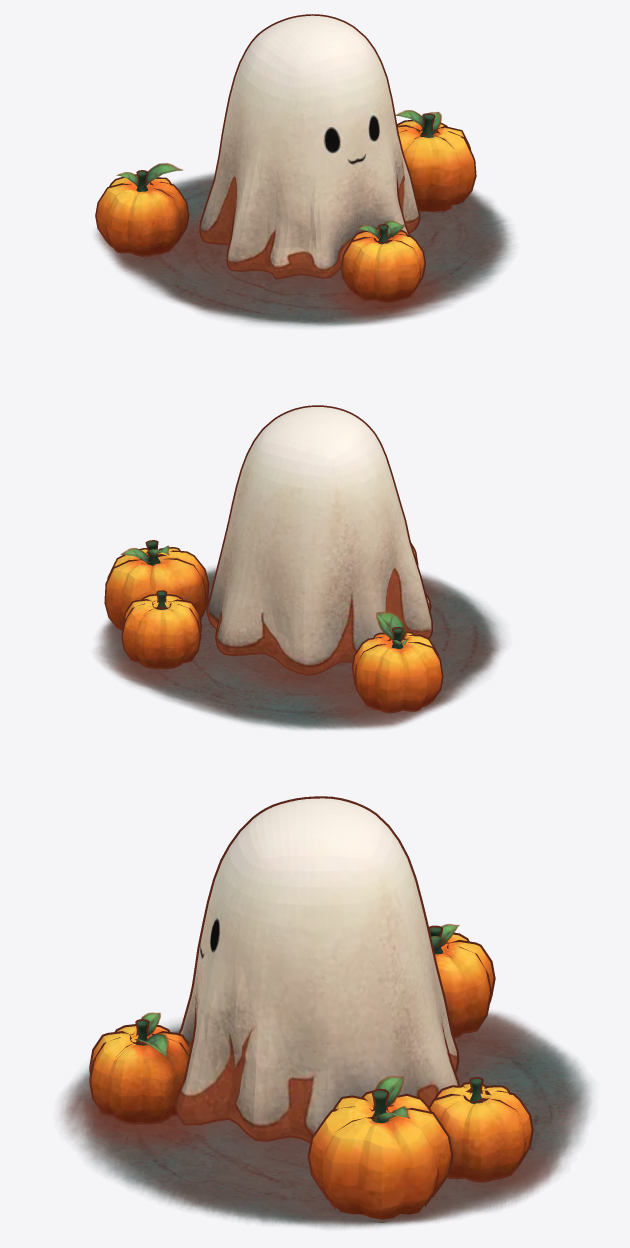
The model's file is cute_ghost.glb.
The picture shows the model from 3 angles, top to bottom: view 1: azimuth 30°, elevation 25°; view 2: azimuth 150°, elevation 25°; view 3: azimuth 270°, elevation 25°; orthographic projection. The views are drawn at different scales.
Visible parts, largest first — view 1: Ghost, Ground, Ghost.002, Ghost.001; view 2: Ghost, Ground, Ghost.002, Ghost.001; view 3: Ghost, Ground, Ghost.002, Ghost.001.
Part boxes in pixels (x1=…): Ghost: x1=96, y1=15, x2=474, y2=301; Ground: x1=95, y1=173, x2=513, y2=326; Ghost.002: x1=95, y1=14, x2=476, y2=303; Ghost.001: x1=116, y1=110, x2=441, y2=239; Ghost: x1=106, y1=407, x2=441, y2=711; Ground: x1=96, y1=567, x2=504, y2=729; Ghost.002: x1=104, y1=405, x2=443, y2=713; Ghost.001: x1=120, y1=545, x2=408, y2=645; Ghost: x1=91, y1=798, x2=531, y2=1219; Ground: x1=60, y1=1011, x2=591, y2=1228; Ghost.002: x1=89, y1=796, x2=533, y2=1222; Ghost.001: x1=134, y1=924, x2=459, y2=1121.
Size of the model in its own units: 5.28 by 3.13 by 5.47.
3 materials, 2 textured.
